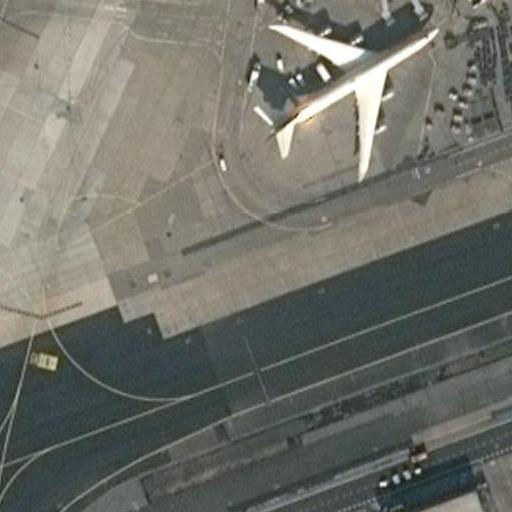Aircraft: (238, 4, 434, 175)
